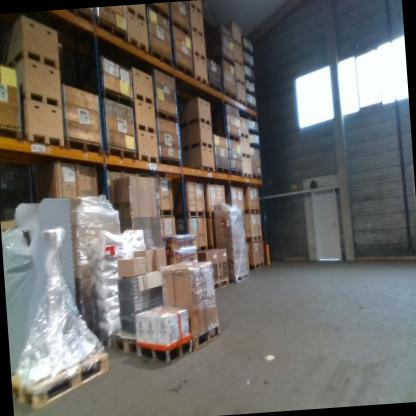pallet: (10, 347, 114, 412), (135, 331, 194, 369), (3, 44, 61, 77), (20, 86, 66, 114), (190, 319, 223, 356), (95, 13, 129, 46), (20, 128, 66, 152), (64, 134, 104, 157), (109, 328, 139, 358), (103, 85, 135, 111), (103, 143, 138, 163), (60, 8, 96, 26), (149, 45, 174, 70), (0, 120, 24, 142), (179, 116, 213, 130), (126, 4, 147, 26), (133, 89, 156, 109), (128, 36, 149, 57), (174, 59, 196, 79), (155, 107, 178, 126), (173, 14, 191, 38), (180, 140, 214, 152), (136, 123, 157, 142), (222, 86, 239, 108), (159, 153, 182, 169), (147, 5, 170, 20), (175, 209, 205, 220), (137, 151, 160, 165), (230, 270, 250, 283), (210, 79, 224, 97), (191, 24, 205, 42), (191, 163, 216, 173), (188, 1, 204, 16), (212, 279, 230, 291), (193, 48, 207, 63), (248, 259, 265, 271), (159, 206, 173, 220), (244, 233, 263, 243), (214, 165, 231, 176), (226, 131, 240, 143), (196, 76, 210, 88), (245, 206, 261, 216), (230, 167, 243, 178), (238, 96, 248, 110), (246, 103, 258, 114), (248, 128, 260, 138), (236, 77, 247, 87), (232, 38, 243, 48), (197, 245, 208, 255), (250, 141, 261, 151), (242, 172, 254, 181), (234, 57, 244, 67), (240, 131, 250, 140), (241, 151, 252, 159), (253, 173, 262, 180)
